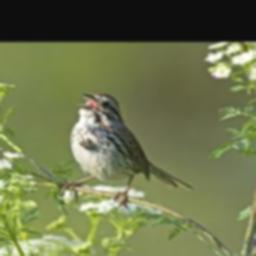Sparrow: (55, 91, 195, 211)
